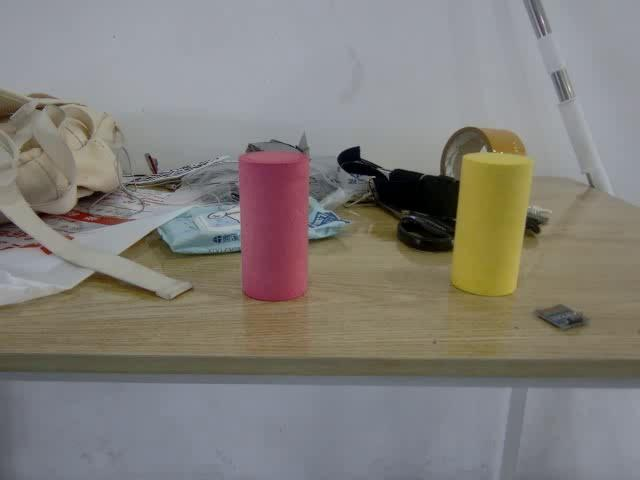red_cylinder: (238, 151, 309, 304)
yellow_cylinder: (453, 151, 533, 296)
